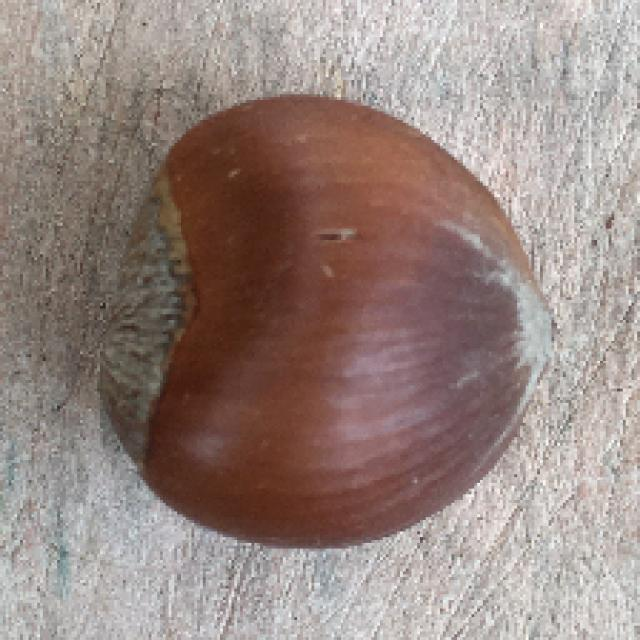qualityHazelnut: (101, 88, 562, 552)
